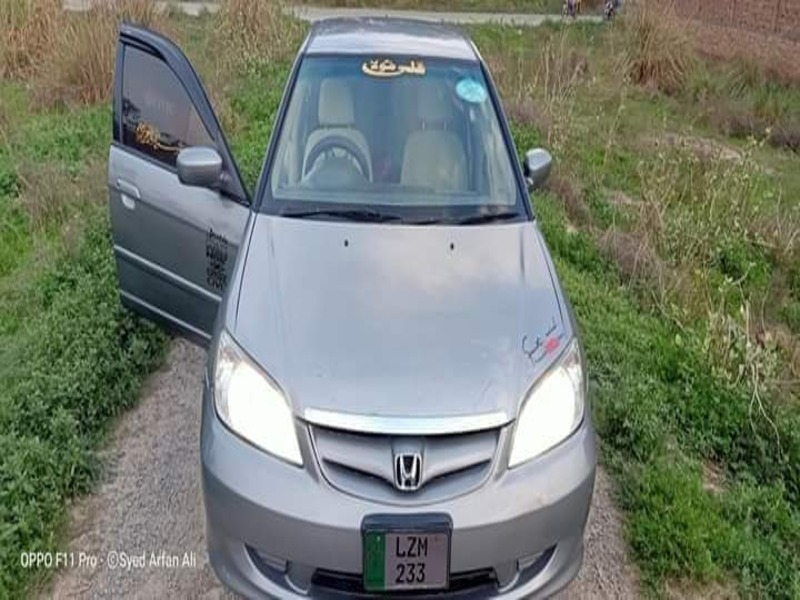License Plate: (359, 510, 453, 593)
